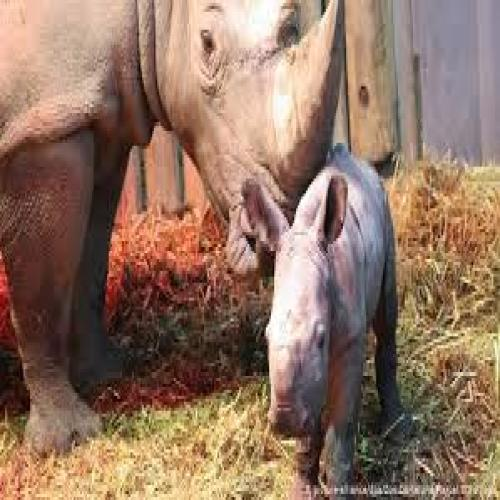rhino-endangered: (0, 0, 345, 460), (240, 150, 409, 485)
